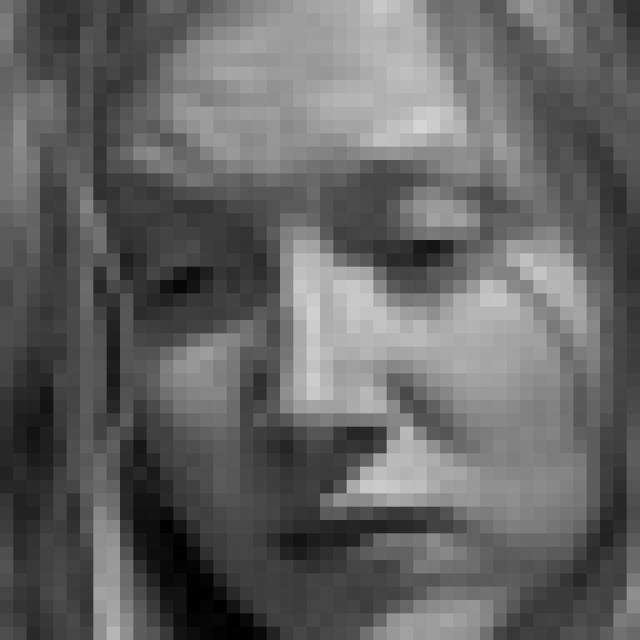sad: (139, 141, 534, 603)
